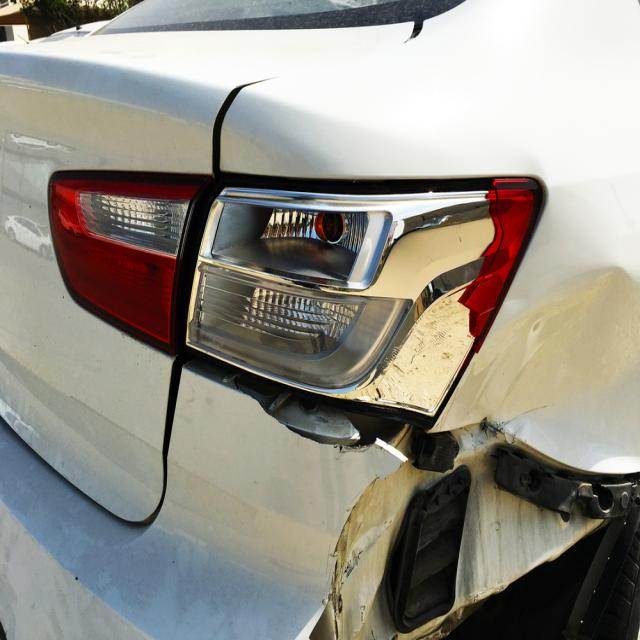Cabossage: (543, 268, 640, 469)
Phare abime: (166, 157, 533, 419)
